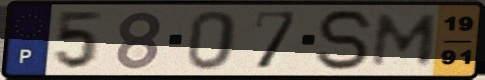0: (184, 8, 240, 72)
5: (53, 9, 106, 71)
7: (252, 10, 299, 71)
8: (115, 9, 165, 71)
M: (367, 12, 443, 69)
S: (314, 7, 378, 73)
